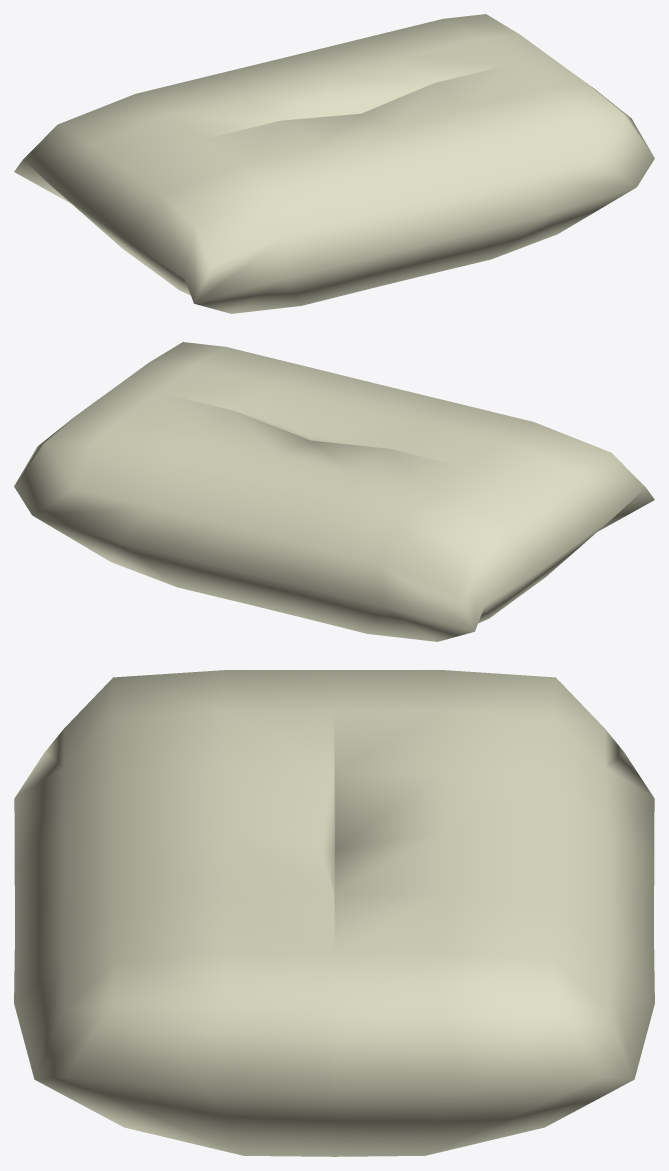
File: Pillow.fbx
3 views of the same model, one above another, from view 1: azimuth 30°, elevation 25°; view 2: azimuth 150°, elevation 25°; view 3: azimuth 270°, elevation 25° (orthographic). The views are drawn at different scales.
Parts seen in each view (by area): view 1: Plane003; view 2: Plane003; view 3: Plane003.
Part boxes in pixels (x1,y1,x2,y2): Plane003: (14, 14, 654, 313); Plane003: (14, 342, 654, 641); Plane003: (14, 670, 654, 1156).
Bounding box in the file's own units: 197 × 45.83 × 135.
